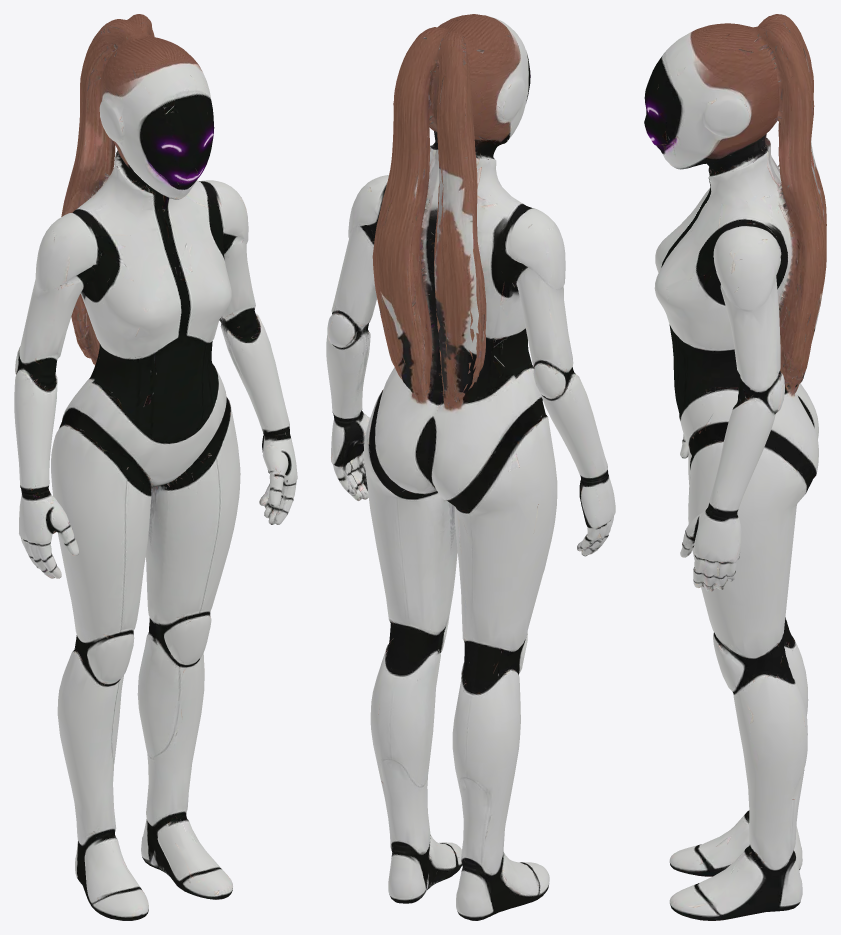
The model's file is robot-b.opt.glb.
The picture shows the model from 3 angles, left to right: view 1: azimuth 30°, elevation 25°; view 2: azimuth 150°, elevation 25°; view 3: azimuth 270°, elevation 25°; orthographic projection. The views are drawn at different scales.
Parts seen in each view (by area): view 1: Mesh_0; view 2: Mesh_0; view 3: Mesh_0.
Part boxes in pixels (bbox=[...]): Mesh_0: bbox=[14, 14, 297, 920]; Mesh_0: bbox=[326, 14, 615, 920]; Mesh_0: bbox=[644, 14, 826, 920].
Bounding box in the file's own units: 0.6229 × 1.9 × 0.3608.
1 material, 1 textured.
